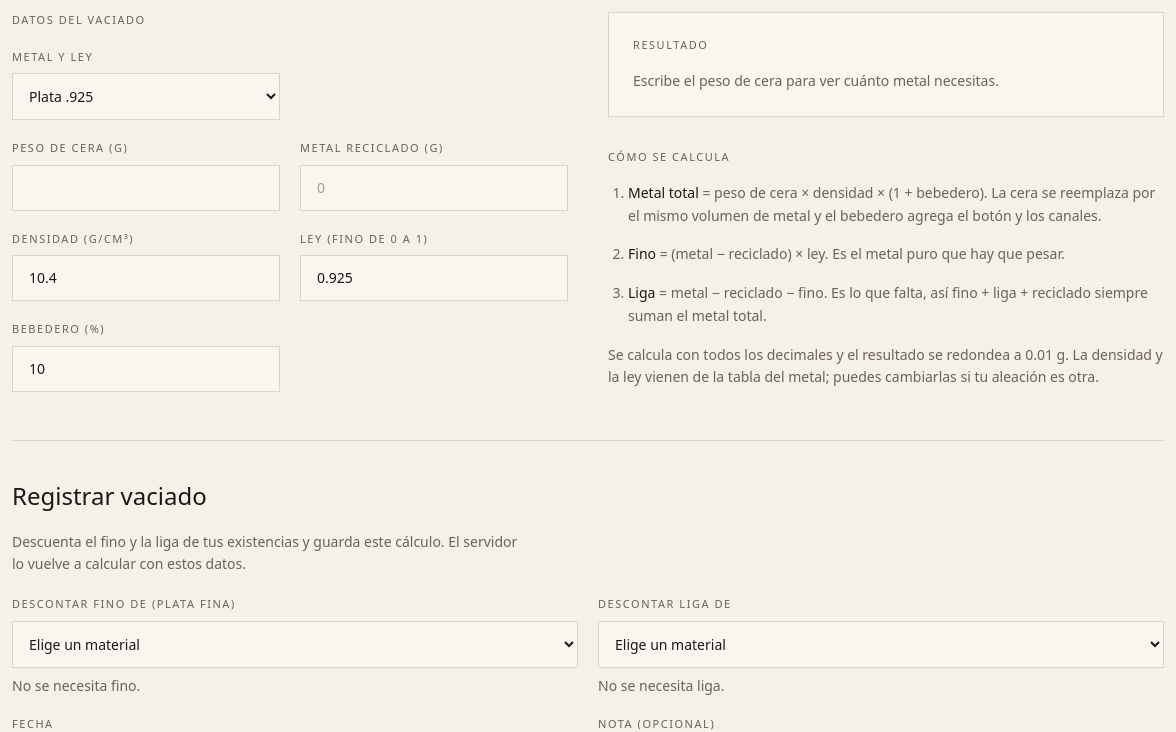
Test: CastingCalculator: inputs and defaults › keeps a density the jeweler typed until the metal changes again
Select "Oro 14k" in the dropdown labelled "Metal y ley" at (146, 96), box [12,73,280,120]
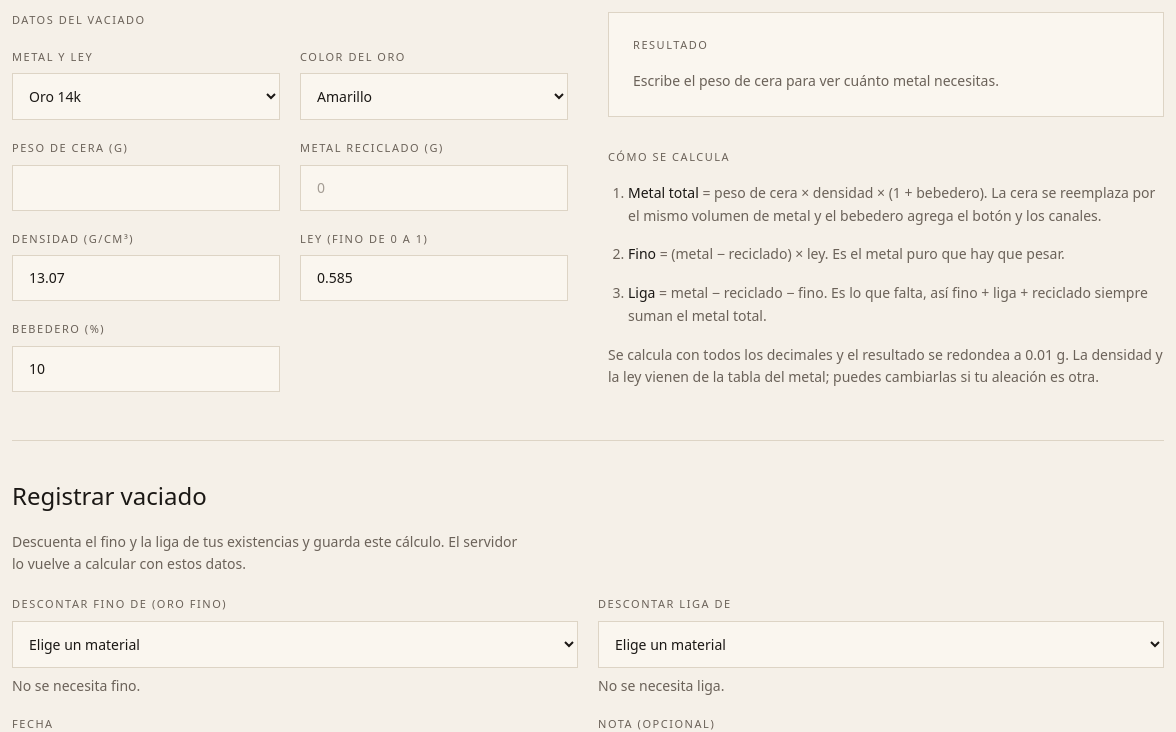
Replace the text in the number field labelled "Densidad (g/cm³)" with "13.5" at (146, 278), box [12,255,280,301]
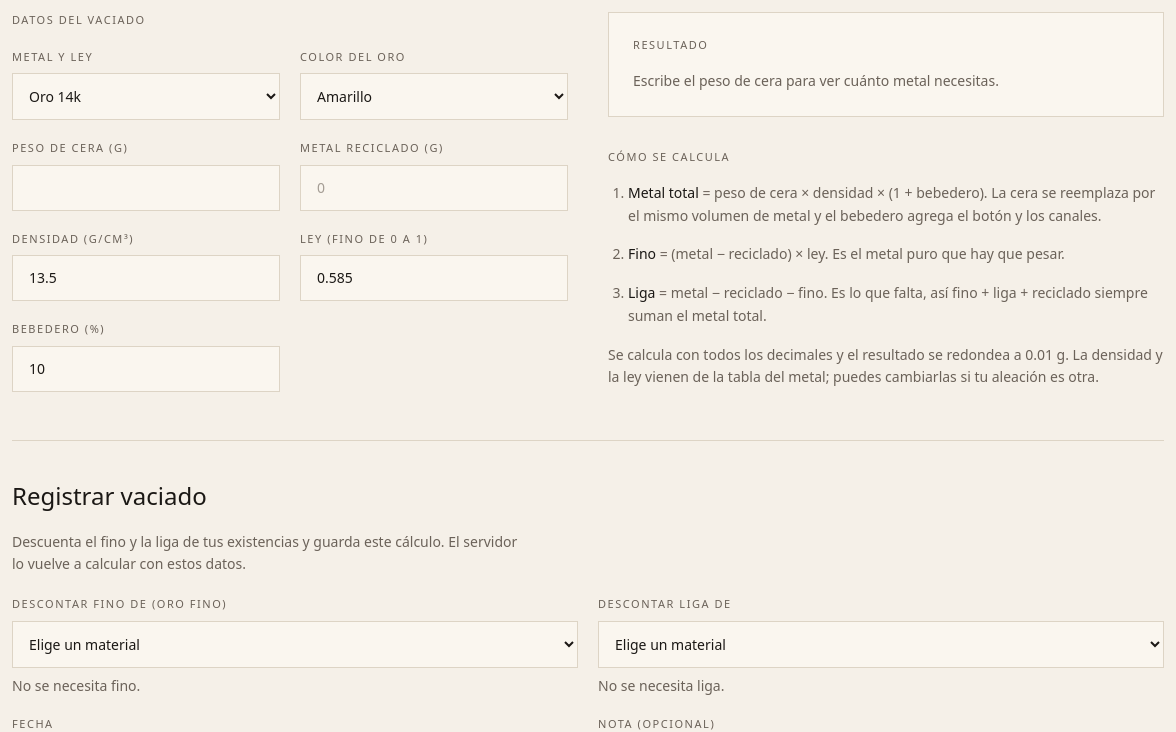
Replace the text in the number field labelled "Ley (fino de 0 a 1)" with "0.58333" at (434, 278), box [300,255,568,301]
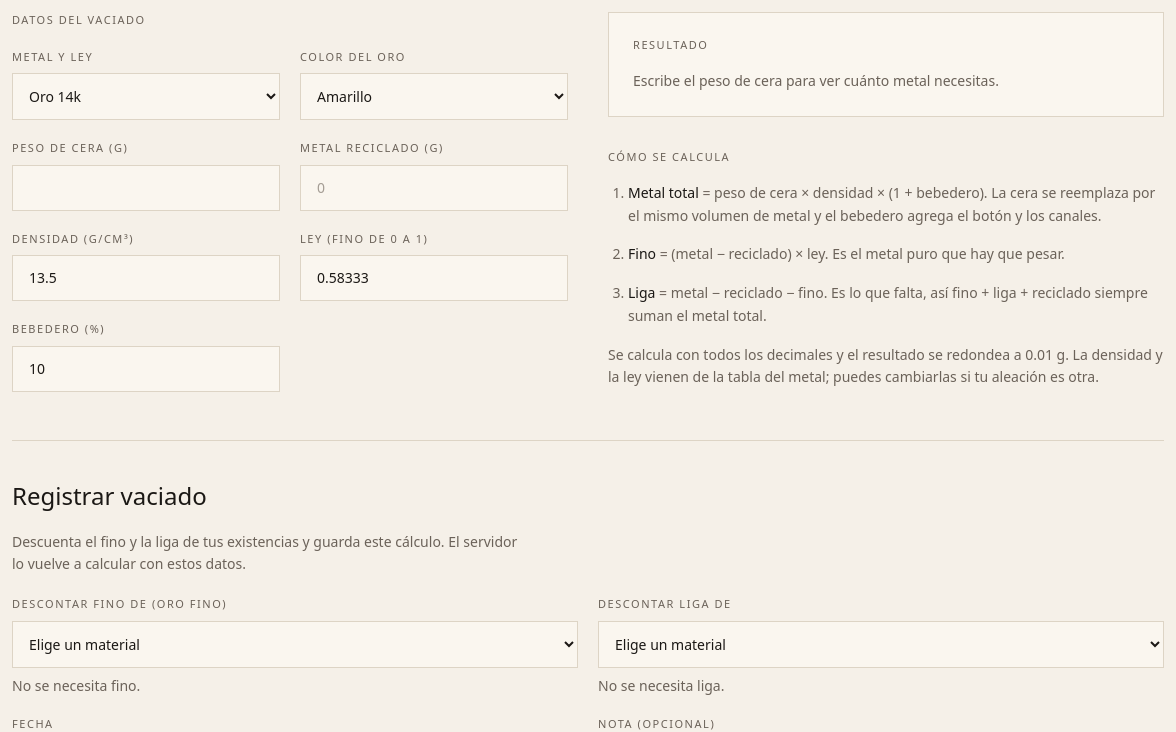
Select "Oro 10k" in the dropdown labelled "Metal y ley" at (146, 96), box [12,73,280,120]
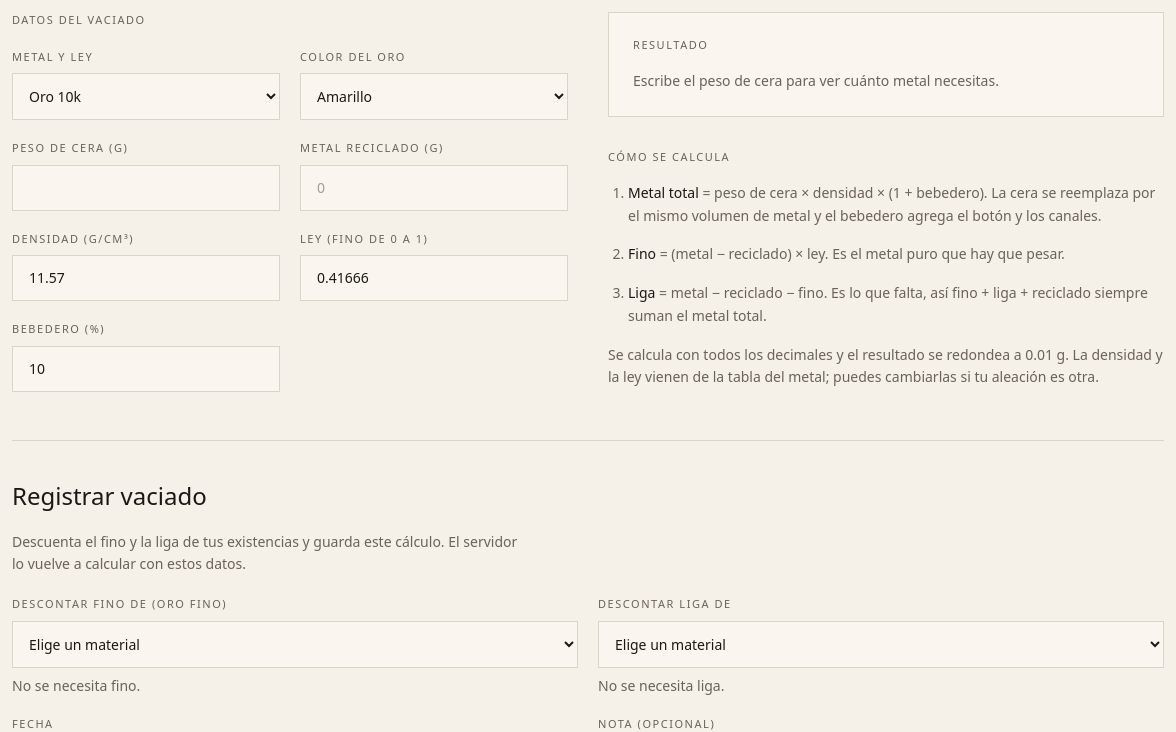
Result: the number field labelled "Densidad (g/cm³)" holds "11.57" at [12,255,280,301]
Result: the number field labelled "Ley (fino de 0 a 1)" holds "0.41666" at [300,255,568,301]
